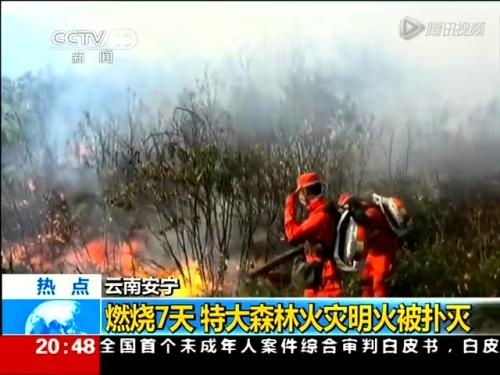fire: (0, 186, 157, 278), (159, 252, 220, 296)
